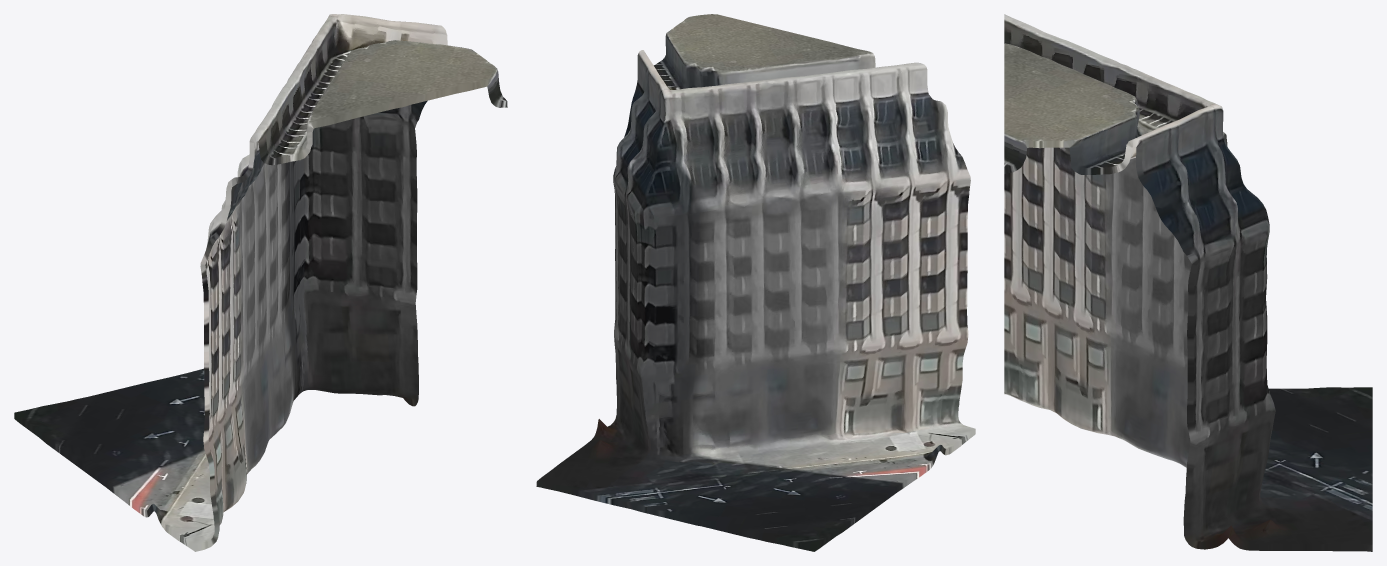
The model's file is z20-167775-405237-h0-yup-uvflip-v3-world.glb.
3 renders of one model, left to right at view 1: azimuth 30°, elevation 25°; view 2: azimuth 150°, elevation 25°; view 3: azimuth 270°, elevation 25°, orthographic. The views are drawn at different scales.
Size of the model in its own units: 30.2 by 37.52 by 30.32.
1 material, 1 textured.
